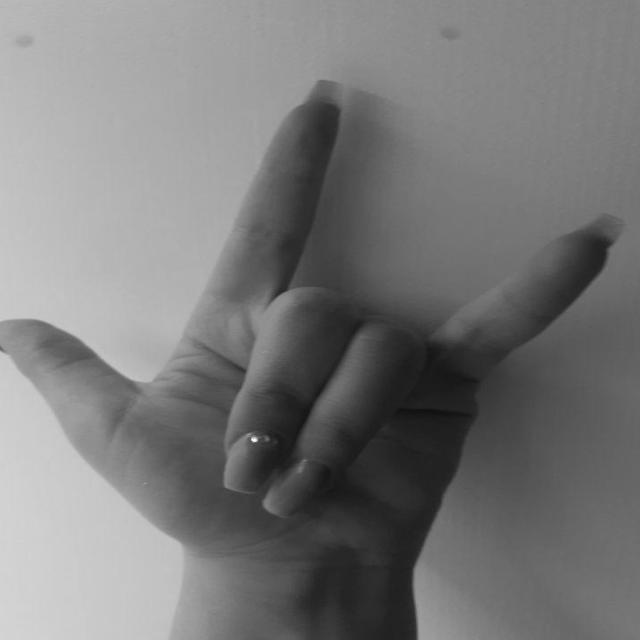i love you: (0, 70, 627, 588)
